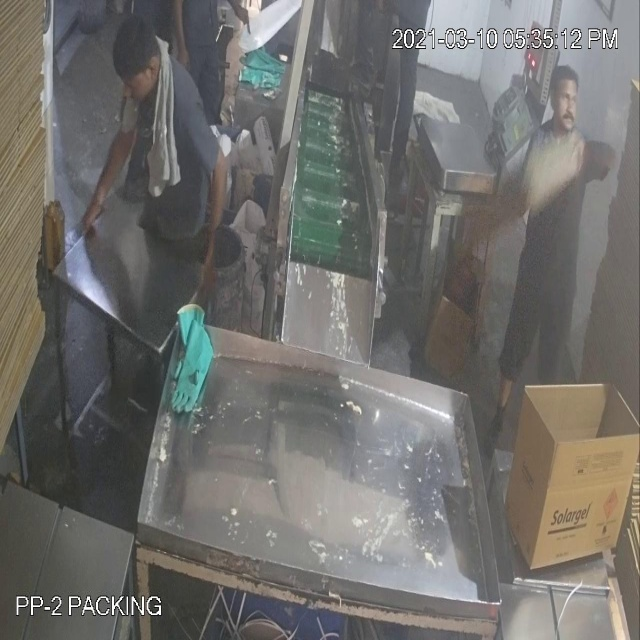Sin_guantes: (67, 102, 146, 243), (199, 142, 232, 315)
